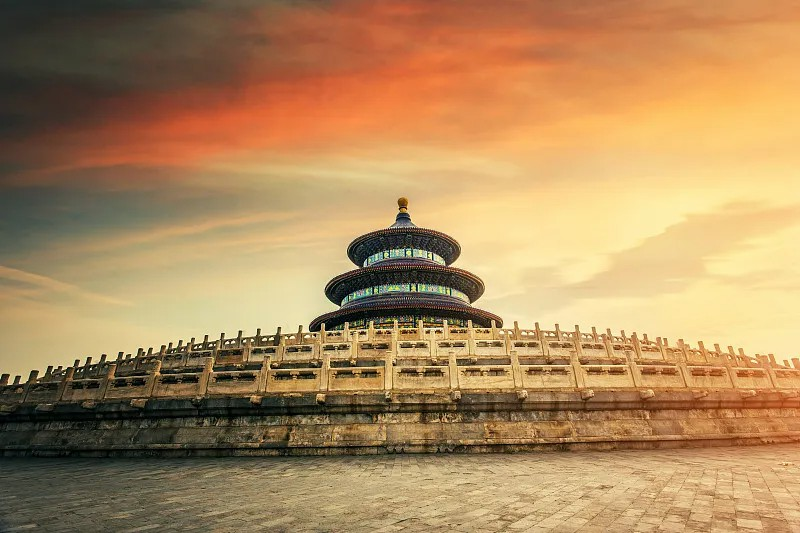Heaven: (309, 196, 504, 329)
